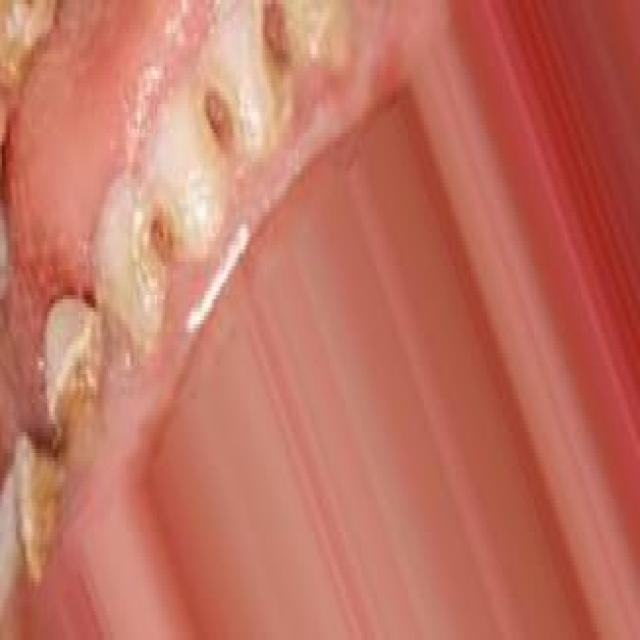caries: (37, 295, 114, 456), (243, 0, 316, 130), (8, 428, 76, 566), (126, 174, 184, 310), (186, 57, 240, 182)
